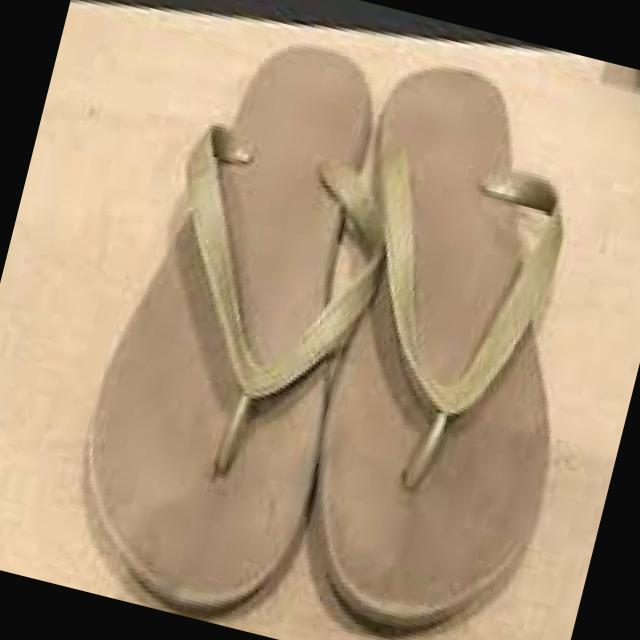giay: (86, 46, 384, 612), (316, 68, 563, 630)
